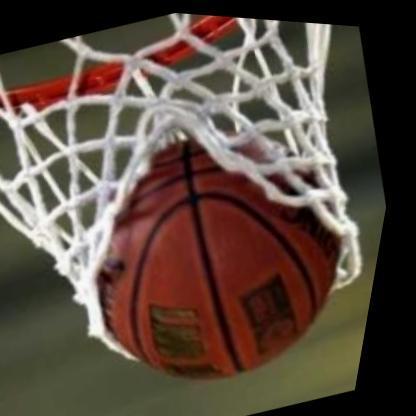basketball: (35, 81, 403, 416)
